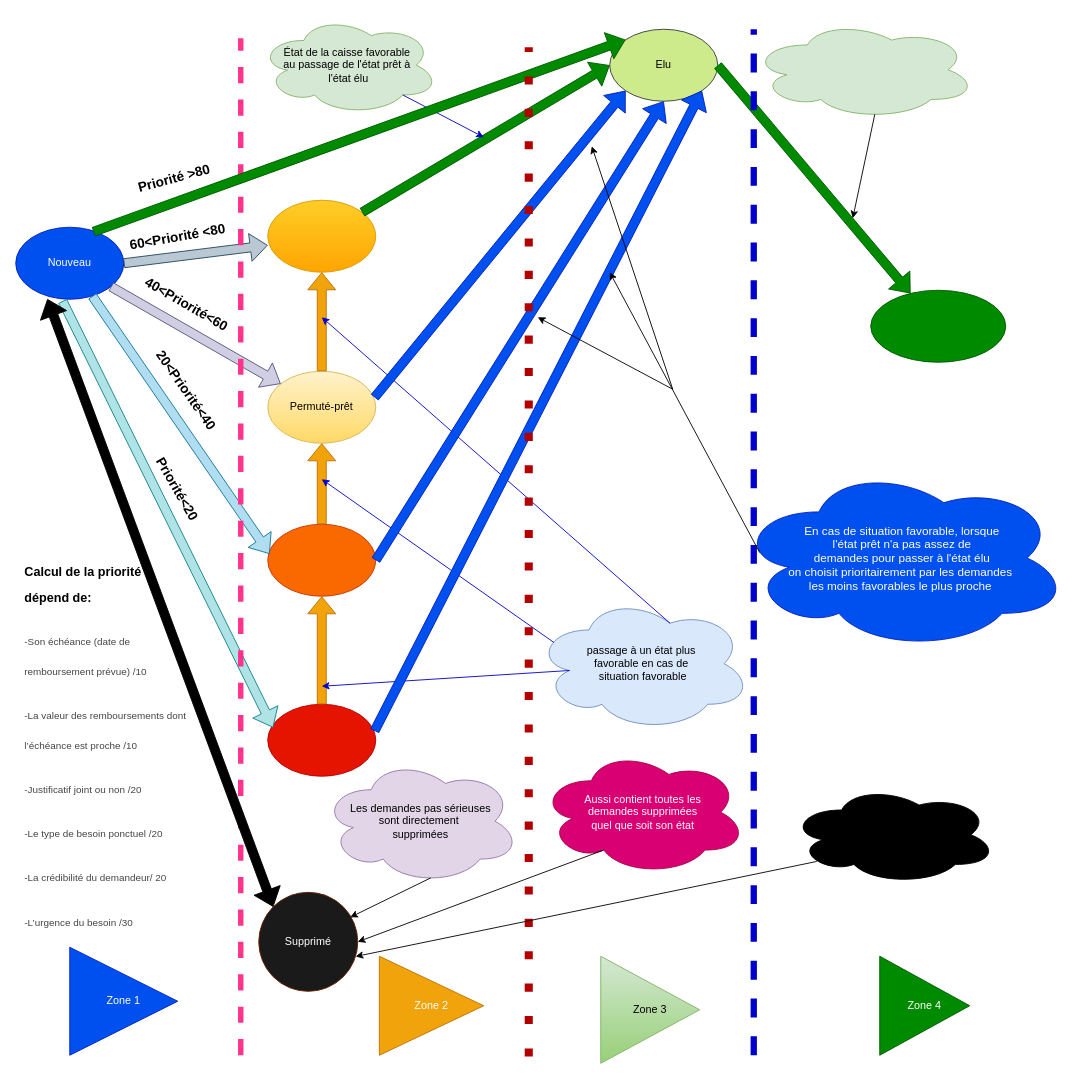
Image size: 1085x1079. Some labels were removed from this diagram. The shapes that lost their labels are listed below. From the top down, each one's box as (x1, y1, x2, y2) in pixels, then its label:
(750, 19, 976, 119): Quand un demandeur a perçu la somme demandée
(267, 199, 376, 272): Prêt
(870, 289, 1006, 362): Terminé
(267, 523, 376, 596): Bloqué
(267, 703, 376, 776): Permuté-bloqué
(789, 784, 997, 884): Une demande supprimée peut être restaurée en une nouvelle demande
